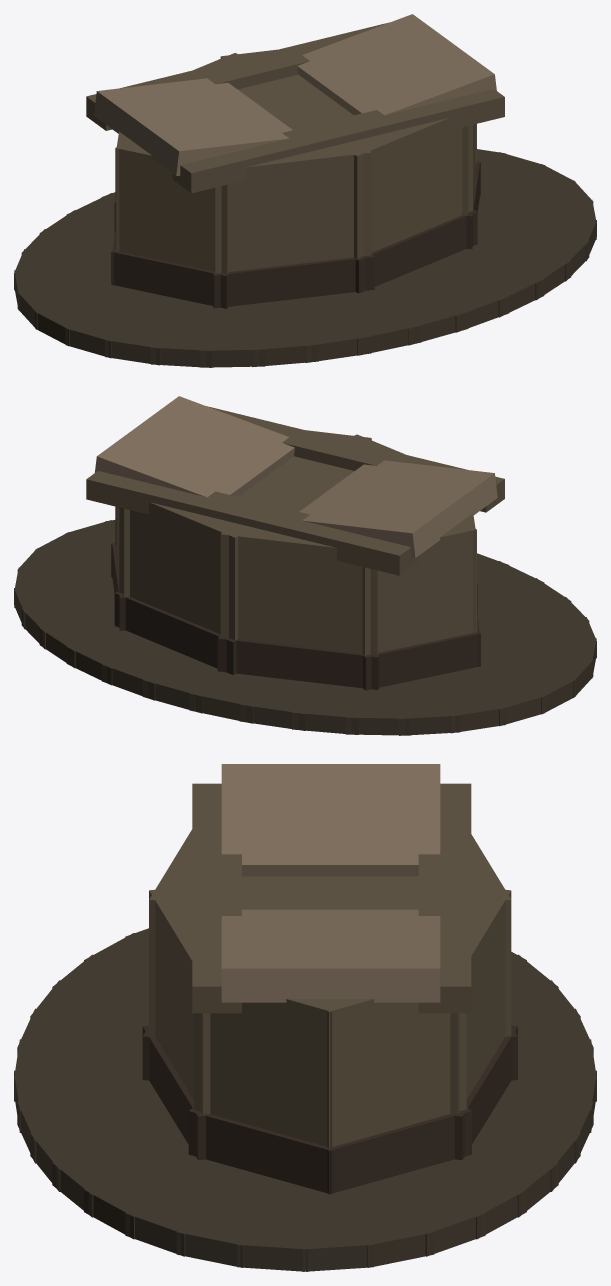
Rendered from CMU3DAU14CivFedoraTanWorldCloud.glb.
3 views of the same model, one above another, from view 1: azimuth 30°, elevation 25°; view 2: azimuth 150°, elevation 25°; view 3: azimuth 270°, elevation 25° (orthographic). The views are drawn at different scales.
Visible parts, largest first — view 1: open eight-sided crown facet 05, right creased crown roof, open eight-sided crown facet 06, left creased crown roof, open eight-sided crown facet 04, front crown top, dark woven crown ribbon facet 05, rear crown top, dark woven crown ribbon facet 04, dark woven crown ribbon facet 06, broad flat brim facet 19, broad flat brim facet 21 (+27 smaller); view 2: open eight-sided crown facet 02, right creased crown roof, left creased crown roof, open eight-sided crown facet 01, open eight-sided crown facet 03, rear crown top, dark woven crown ribbon facet 02, dark woven crown ribbon facet 01, dark woven crown ribbon facet 03, front crown top, recessed center crown crease, broad flat brim facet 11 (+25 smaller); view 3: left creased crown roof, right creased crown roof, open eight-sided crown facet 00, open eight-sided crown facet 07, rear crown top, front crown top, open eight-sided crown facet 06, open eight-sided crown facet 01, dark woven crown ribbon facet 00, dark woven crown ribbon facet 07, broad flat brim facet 25, recessed center crown crease (+28 smaller).
Part boxes in pixels (<box>): open eight-sided crown facet 05: <box>214,139,371,273</box>; right creased crown roof: <box>297,14,496,115</box>; open eight-sided crown facet 06: <box>339,117,472,258</box>; left creased crown roof: <box>94,78,292,175</box>; open eight-sided crown facet 04: <box>115,138,229,273</box>; front crown top: <box>172,88,504,193</box>; dark woven crown ribbon facet 05: <box>212,253,374,308</box>; rear crown top: <box>86,22,388,130</box>; dark woven crown ribbon facet 04: <box>111,251,231,308</box>; dark woven crown ribbon facet 06: <box>354,209,477,293</box>; broad flat brim facet 19: <box>150,296,225,367</box>; broad flat brim facet 21: <box>232,299,318,367</box>; open eight-sided crown facet 02: <box>220,521,378,655</box>; right creased crown roof: <box>95,396,294,497</box>; left creased crown roof: <box>299,460,497,558</box>; open eight-sided crown facet 01: <box>119,502,251,640</box>; open eight-sided crown facet 03: <box>362,519,476,655</box>; rear crown top: <box>86,471,419,575</box>; dark woven crown ribbon facet 02: <box>217,636,380,689</box>; dark woven crown ribbon facet 01: <box>114,591,239,674</box>; dark woven crown ribbon facet 03: <box>361,631,480,690</box>; front crown top: <box>207,406,504,512</box>; recessed center crown crease: <box>239,456,354,511</box>; broad flat brim facet 11: <box>345,680,414,735</box>; left creased crown roof: <box>221,764,440,876</box>; right creased crown roof: <box>221,909,440,1002</box>; open eight-sided crown facet 00: <box>309,999,466,1147</box>; open eight-sided crown facet 07: <box>193,999,348,1147</box>; rear crown top: <box>418,783,471,1013</box>; front crown top: <box>192,783,241,1013</box>; open eight-sided crown facet 06: <box>149,885,210,1114</box>; open eight-sided crown facet 01: <box>450,886,511,1114</box>; dark woven crown ribbon facet 00: <box>320,1108,471,1194</box>; dark woven crown ribbon facet 07: <box>188,1108,339,1194</box>; broad flat brim facet 25: <box>17,1091,178,1163</box>; recessed center crown crease: <box>242,876,418,909</box>.
Bounding box in the file's own units: 0.5327 × 0.1644 × 0.376.
